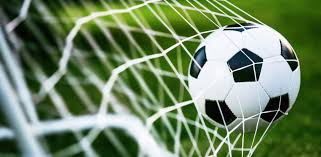football: (188, 21, 299, 128)
